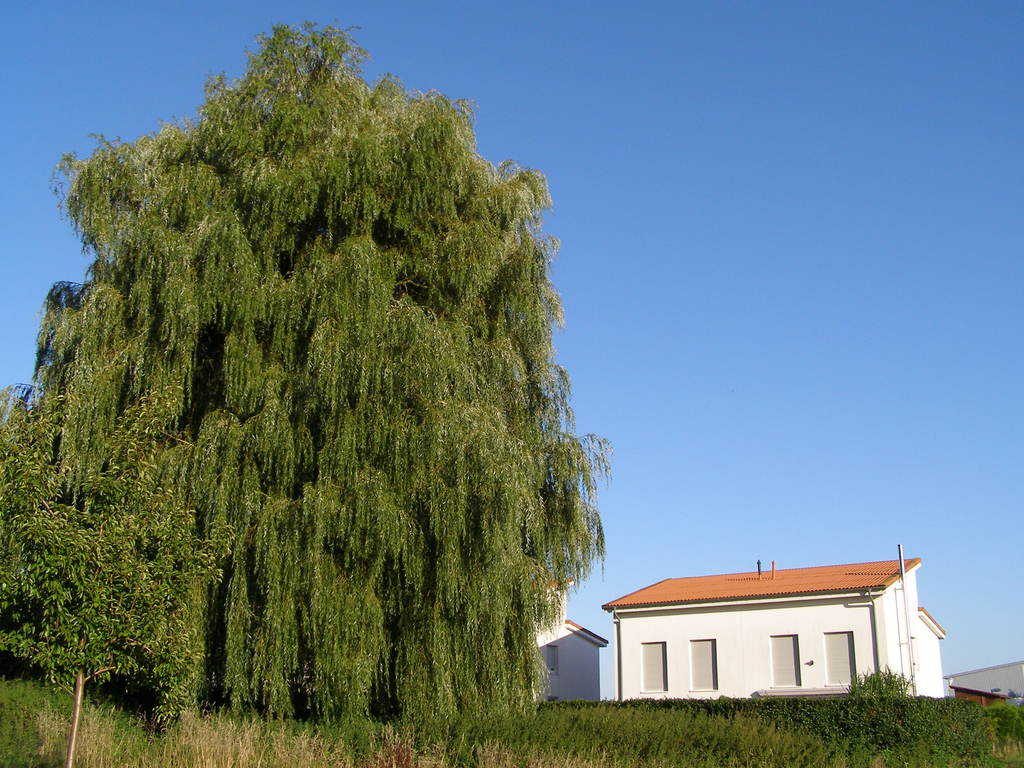Tree: (10, 36, 631, 710), (0, 378, 238, 767)
